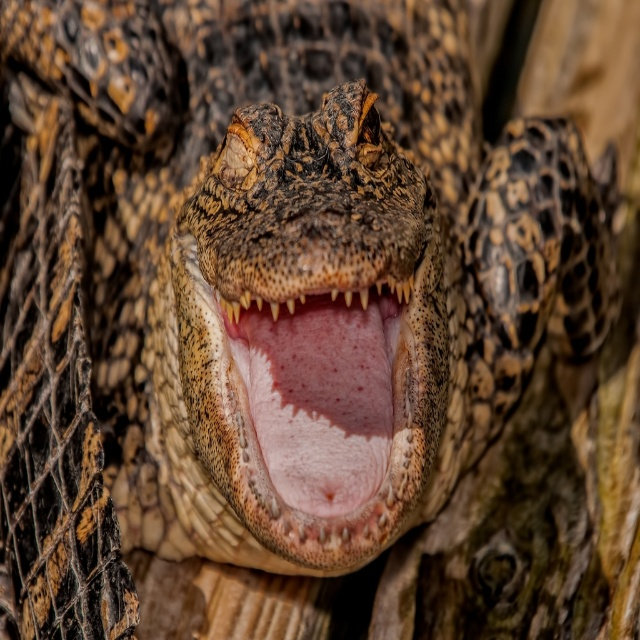Crocodile: (0, 1, 620, 639)
